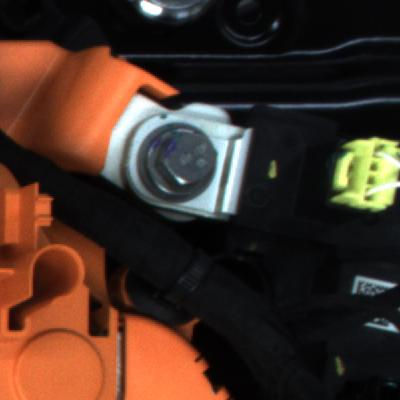nut_b: (135, 114, 220, 205)
